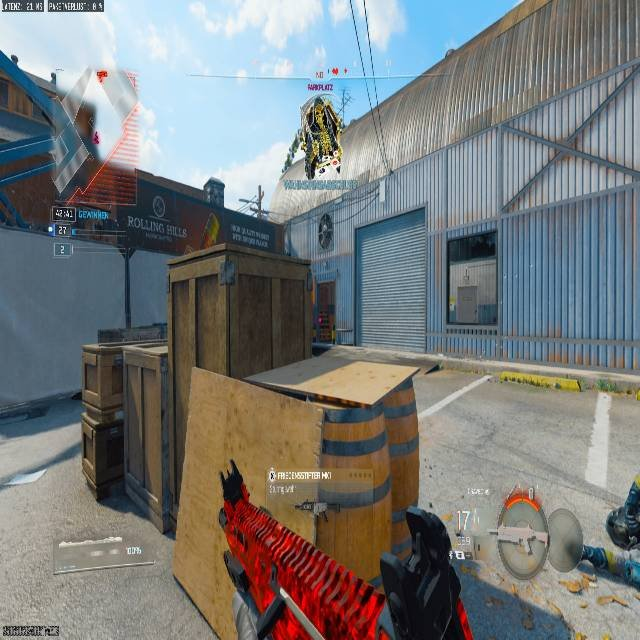player: (459, 481, 640, 639), (303, 93, 343, 178)
